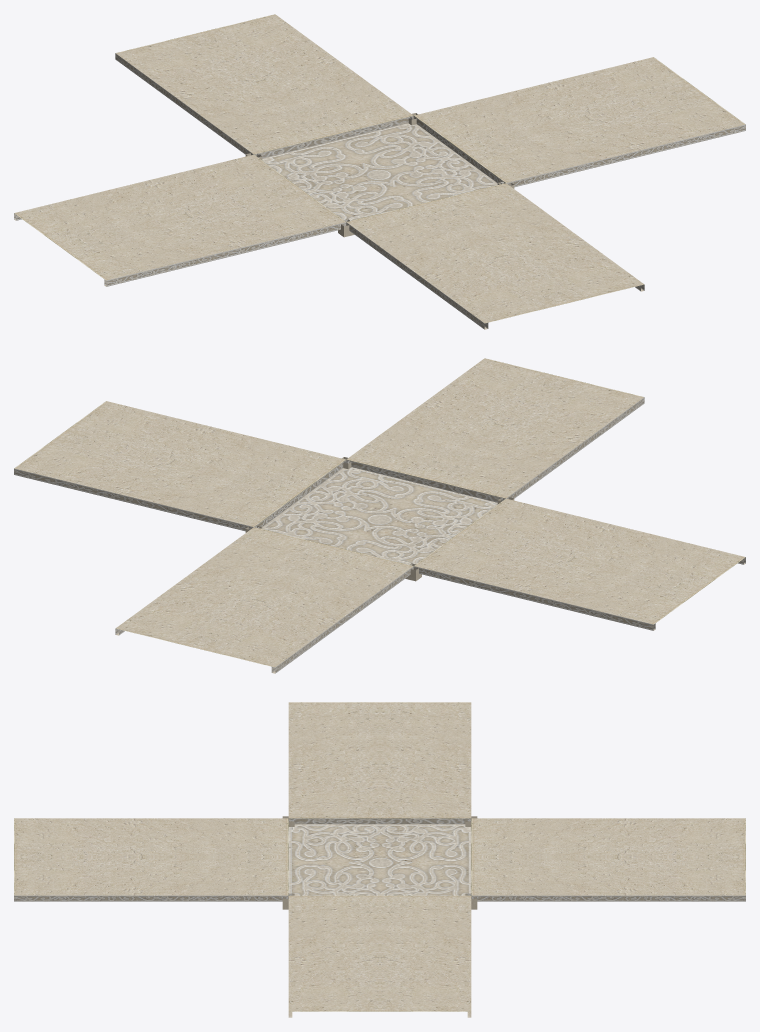
The model's file is dungeon_Tile_05_Roofl_Additional.fbx.
3 views of the same model, one above another, from view 1: azimuth 30°, elevation 25°; view 2: azimuth 150°, elevation 25°; view 3: azimuth 270°, elevation 25° (orthographic).
Parts seen in each view (by area): view 1: polySurface484; view 2: polySurface484; view 3: polySurface484.
Boxes of the visible parts, x1=… form: polySurface484: x1=14, y1=14, x2=745, y2=329; polySurface484: x1=14, y1=358, x2=745, y2=673; polySurface484: x1=14, y1=702, x2=745, y2=1017.
Bounding box in the file's own units: 120 × 2.12 × 120.
